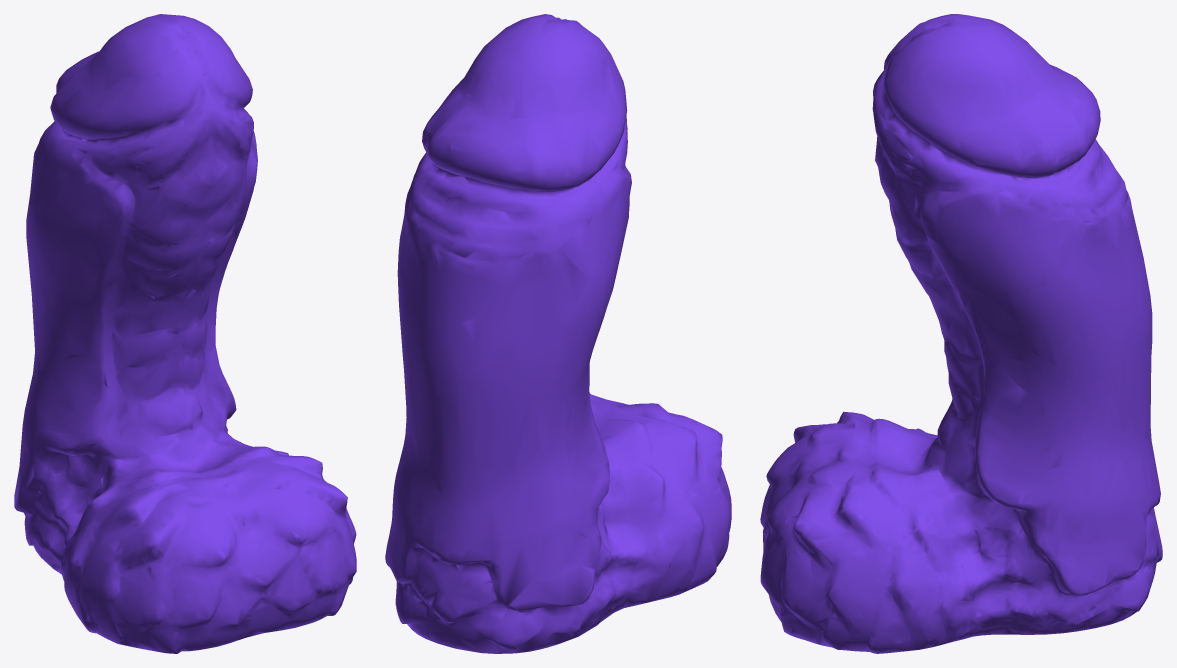
Rendered from medium-flat-ar.glb.
3 views of the same model, side by side, from view 1: azimuth 30°, elevation 25°; view 2: azimuth 150°, elevation 25°; view 3: azimuth 270°, elevation 25° (orthographic). The views are drawn at different scales.
Bounding box in the file's own units: 0.1031 × 0.2099 × 0.1337.
